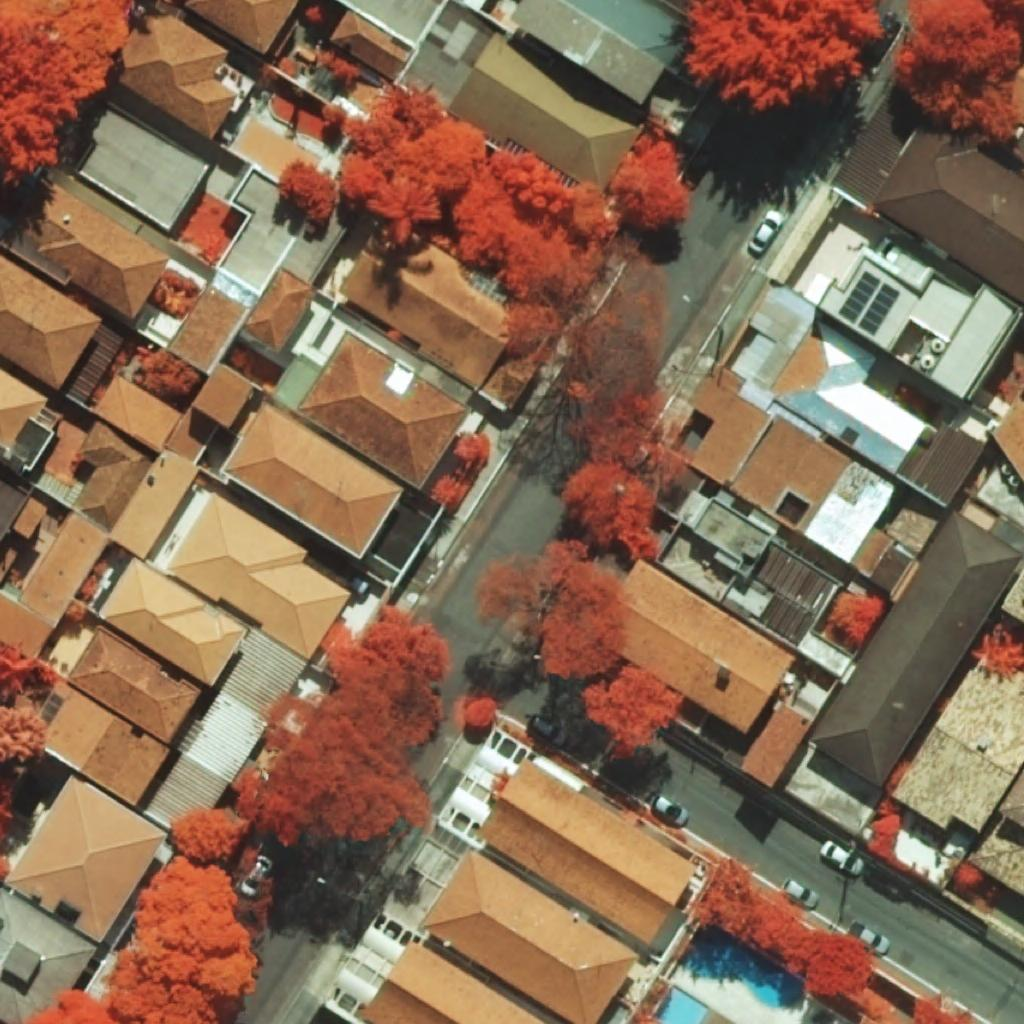pool: (682, 925, 803, 1009), (654, 985, 709, 1024)
